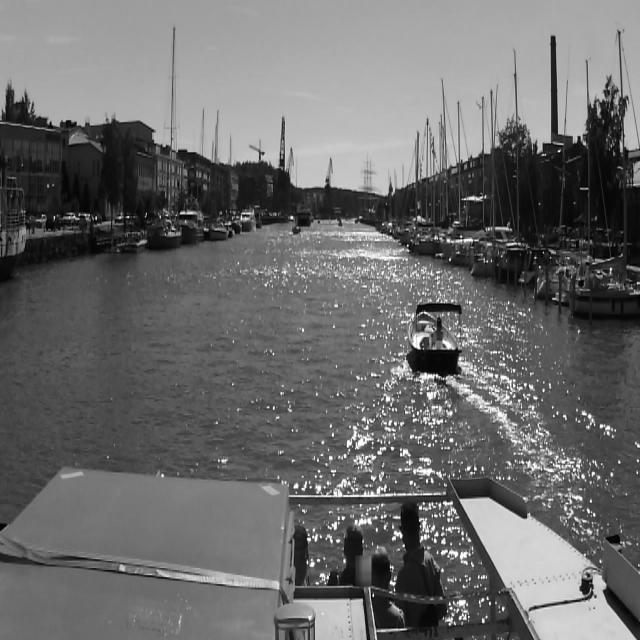ship: (572, 25, 638, 316), (533, 62, 595, 294), (476, 50, 532, 278), (416, 81, 476, 249), (148, 18, 182, 244), (206, 106, 230, 245), (410, 304, 458, 373), (180, 212, 204, 242), (241, 210, 257, 232), (297, 202, 311, 225), (288, 222, 302, 236), (338, 220, 342, 226)
